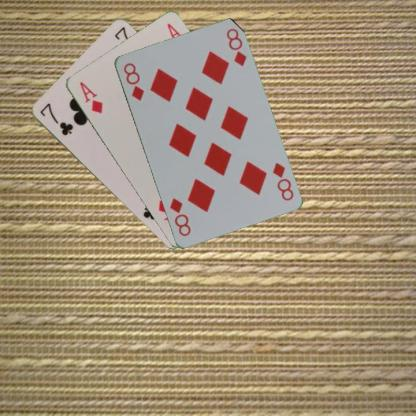7c: (36, 100, 74, 137)
8d: (269, 160, 295, 202), (120, 60, 145, 102)
Ad: (76, 79, 104, 115)
